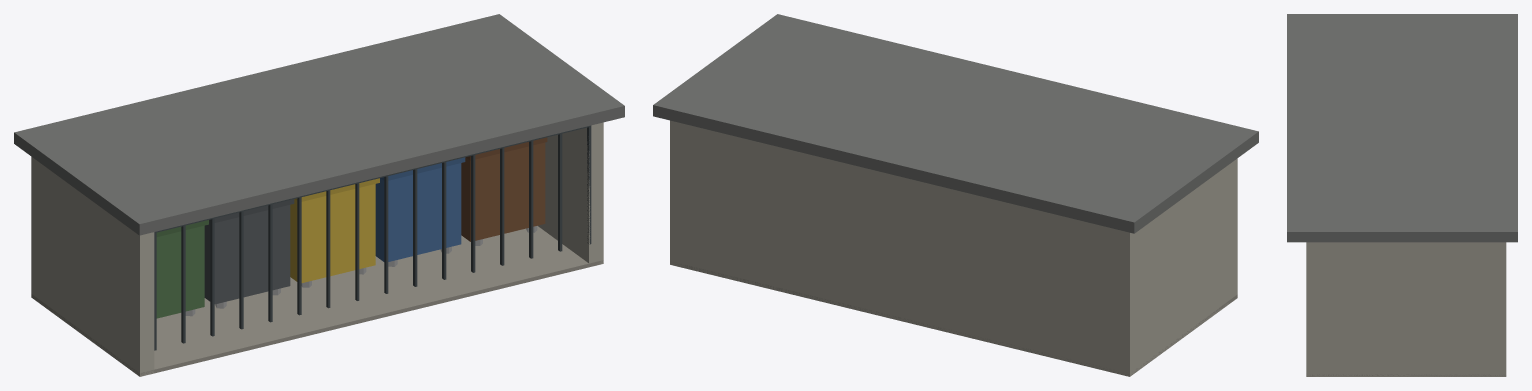
File: smietnik.pbr.glb
The picture shows the model from 3 angles, left to right: view 1: azimuth 30°, elevation 25°; view 2: azimuth 150°, elevation 25°; view 3: azimuth 270°, elevation 25°; orthographic projection. The views are drawn at different scales.
Visible parts, largest first — view 1: smietnik; view 2: smietnik; view 3: smietnik.
Boxes of the visible parts, box(x1,y1,x2,y2) form: smietnik: box(14, 14, 624, 376); smietnik: box(653, 14, 1258, 376); smietnik: box(1287, 14, 1517, 376).
Size of the model in its own units: 6.7 by 2.15 by 3.
